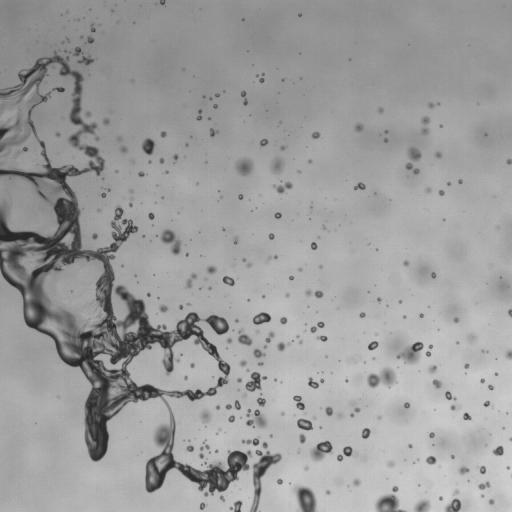droplet: (375, 486, 406, 511), (292, 485, 317, 511), (367, 367, 396, 388), (397, 341, 423, 364), (203, 314, 229, 335), (310, 440, 332, 461), (245, 372, 266, 391), (246, 409, 267, 428), (235, 158, 253, 175), (237, 329, 252, 345), (337, 446, 352, 461), (444, 498, 461, 511), (141, 138, 154, 154), (253, 312, 270, 324), (413, 499, 430, 511), (271, 158, 283, 174), (297, 418, 312, 430), (293, 395, 304, 409), (229, 500, 242, 511), (78, 56, 93, 65), (200, 410, 210, 423), (308, 377, 319, 388), (253, 349, 265, 358), (223, 276, 234, 285), (445, 391, 456, 400), (492, 446, 503, 455), (478, 481, 490, 489), (368, 341, 378, 350), (277, 342, 287, 351), (361, 428, 370, 438), (458, 466, 469, 474), (467, 334, 476, 343), (432, 379, 441, 388), (206, 266, 216, 274), (426, 456, 436, 464), (354, 182, 365, 189), (73, 47, 82, 55), (421, 116, 429, 125), (354, 123, 363, 131), (257, 397, 265, 406), (325, 406, 333, 415), (428, 365, 436, 373), (462, 413, 471, 420), (317, 335, 327, 341), (210, 128, 217, 136), (159, 305, 167, 312), (353, 479, 361, 486), (299, 434, 305, 443), (54, 87, 64, 92), (421, 127, 428, 134), (260, 139, 267, 146), (120, 146, 127, 153), (280, 317, 287, 324), (479, 466, 485, 474), (87, 36, 93, 43), (312, 132, 319, 138), (274, 212, 281, 218), (311, 242, 317, 249), (228, 415, 234, 422), (186, 445, 193, 451), (200, 502, 206, 509), (85, 111, 91, 117), (103, 118, 109, 124), (160, 131, 166, 137), (435, 152, 441, 158), (148, 213, 154, 219), (268, 233, 274, 239), (240, 360, 246, 366), (484, 400, 490, 406), (404, 402, 410, 408), (387, 461, 393, 467), (173, 154, 178, 161), (233, 237, 238, 244), (450, 405, 457, 410), (262, 442, 267, 449), (138, 171, 144, 176), (438, 190, 444, 195), (92, 233, 97, 239), (359, 312, 365, 317), (488, 384, 493, 390), (354, 407, 360, 412), (429, 432, 434, 438), (277, 478, 282, 484), (91, 24, 95, 31), (428, 102, 433, 107), (378, 107, 383, 112), (159, 158, 164, 163), (506, 159, 511, 164), (426, 187, 431, 192), (238, 194, 243, 199), (403, 260, 408, 265), (453, 317, 458, 322), (464, 363, 469, 368), (453, 489, 458, 494), (489, 499, 494, 504), (431, 272, 435, 278), (220, 495, 224, 501), (160, 0, 165, 4), (259, 78, 264, 82), (22, 147, 27, 151), (280, 146, 285, 150), (227, 338, 231, 343), (426, 351, 430, 356), (338, 413, 342, 418), (215, 93, 219, 97), (213, 104, 217, 108), (55, 132, 59, 136), (458, 179, 462, 183), (101, 193, 105, 197), (247, 263, 251, 267), (289, 276, 293, 280), (285, 293, 289, 297), (419, 313, 423, 317), (190, 363, 194, 367), (237, 378, 241, 382), (480, 378, 484, 382), (350, 413, 354, 417), (304, 466, 308, 470), (326, 490, 330, 494), (118, 136, 121, 140), (384, 138, 387, 142), (129, 189, 133, 192), (273, 255, 277, 258), (377, 297, 380, 301), (179, 305, 182, 309), (258, 362, 262, 365), (320, 379, 324, 382), (216, 405, 219, 409), (408, 444, 412, 447), (439, 496, 442, 500), (447, 182, 450, 185), (129, 203, 132, 206), (147, 293, 150, 296), (235, 319, 238, 322), (429, 345, 432, 348), (184, 376, 187, 379), (451, 455, 454, 458), (509, 437, 511, 441), (298, 14, 301, 16), (385, 130, 387, 133), (0, 162, 2, 165), (243, 258, 245, 261), (299, 268, 301, 271), (208, 287, 211, 289), (262, 295, 265, 297), (399, 300, 401, 303), (495, 372, 497, 375), (215, 450, 218, 452), (507, 466, 509, 469), (17, 151, 19, 153), (166, 170, 168, 172), (107, 189, 109, 191), (39, 208, 41, 210), (323, 226, 325, 228), (222, 228, 224, 230), (186, 253, 188, 255), (268, 257, 270, 259), (187, 303, 189, 305), (296, 335, 298, 337), (264, 345, 266, 347), (483, 350, 485, 352), (244, 394, 246, 396), (218, 429, 220, 431)
ligament: (0, 58, 279, 511), (159, 229, 180, 255), (405, 147, 421, 174), (273, 182, 292, 193), (198, 440, 209, 458), (185, 273, 196, 288), (305, 289, 323, 298), (310, 321, 324, 332), (241, 437, 259, 445), (225, 401, 240, 409), (265, 331, 274, 343), (241, 91, 247, 105), (506, 349, 511, 360), (197, 109, 201, 120), (508, 309, 511, 316)
